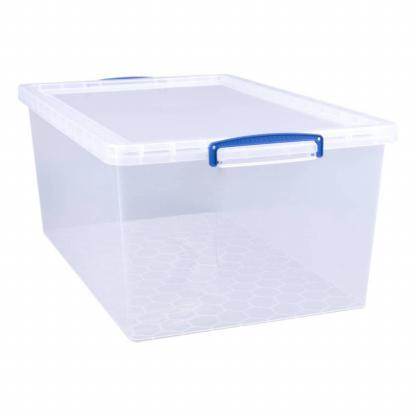plastic_box: (7, 45, 410, 345)
